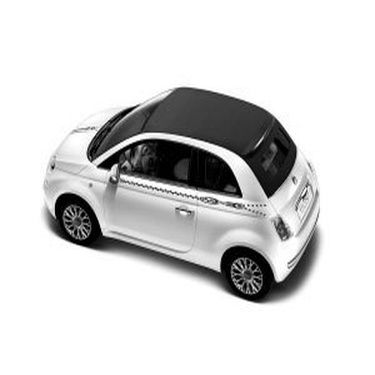car: (34, 77, 327, 312)
